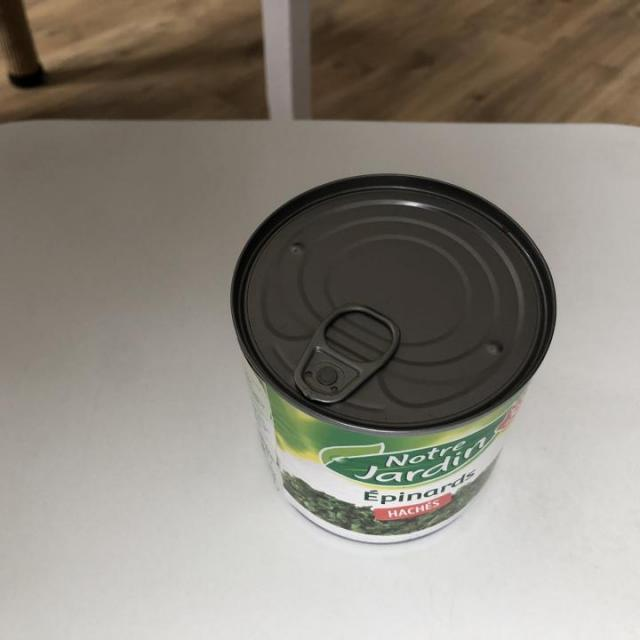recyclable: (205, 167, 568, 556)
